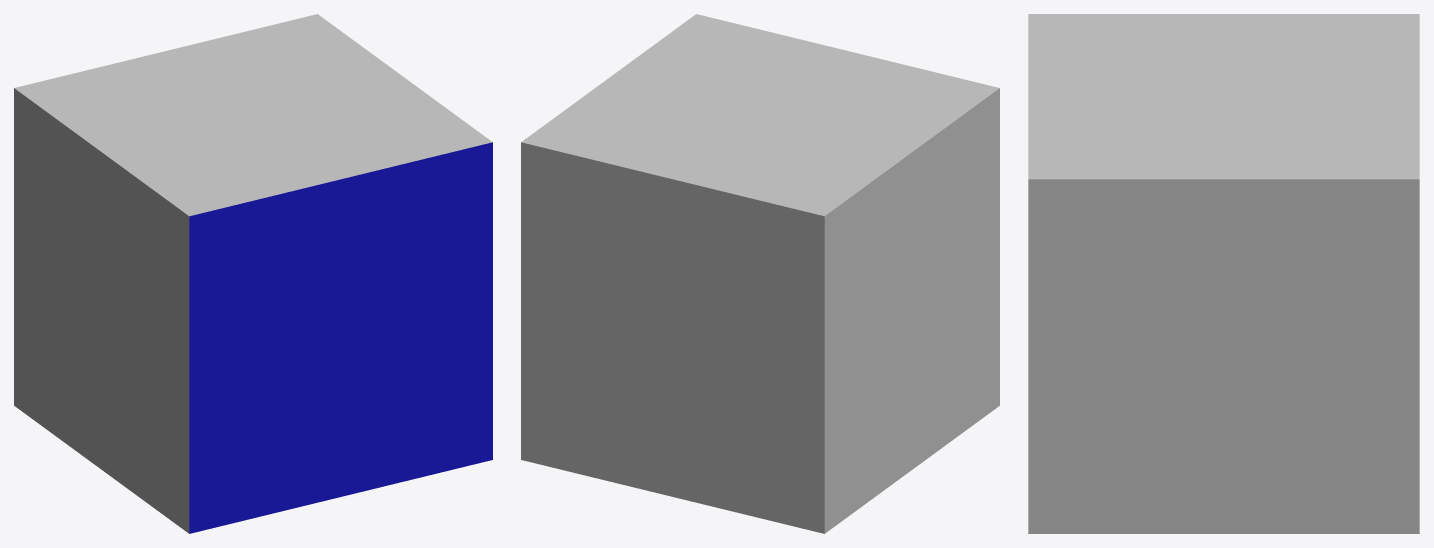
File: box4x4_obstructed.obj
The picture shows the model from 3 angles, left to right: view 1: azimuth 30°, elevation 25°; view 2: azimuth 150°, elevation 25°; view 3: azimuth 270°, elevation 25°; orthographic projection. The views are drawn at different scales.
Parts seen in each view (by area): view 1: Wall1_Plane, Wall3_Plane.003, Ceiling_Plane.005; view 2: Wall2_Plane.002, Wall3_Plane.003, Ceiling_Plane.005; view 3: Wall4_Plane.004, Ceiling_Plane.005.
Part boxes in pixels (box(x1,y1,x2,y2)): Wall1_Plane: box(189, 142, 492, 533); Wall3_Plane.003: box(14, 88, 189, 533); Ceiling_Plane.005: box(14, 14, 492, 216); Wall2_Plane.002: box(521, 142, 824, 533); Wall3_Plane.003: box(824, 88, 999, 533); Ceiling_Plane.005: box(521, 14, 999, 216); Wall4_Plane.004: box(1028, 179, 1419, 533); Ceiling_Plane.005: box(1028, 14, 1419, 179).
Size of the model in its own units: 4 by 4 by 4.
